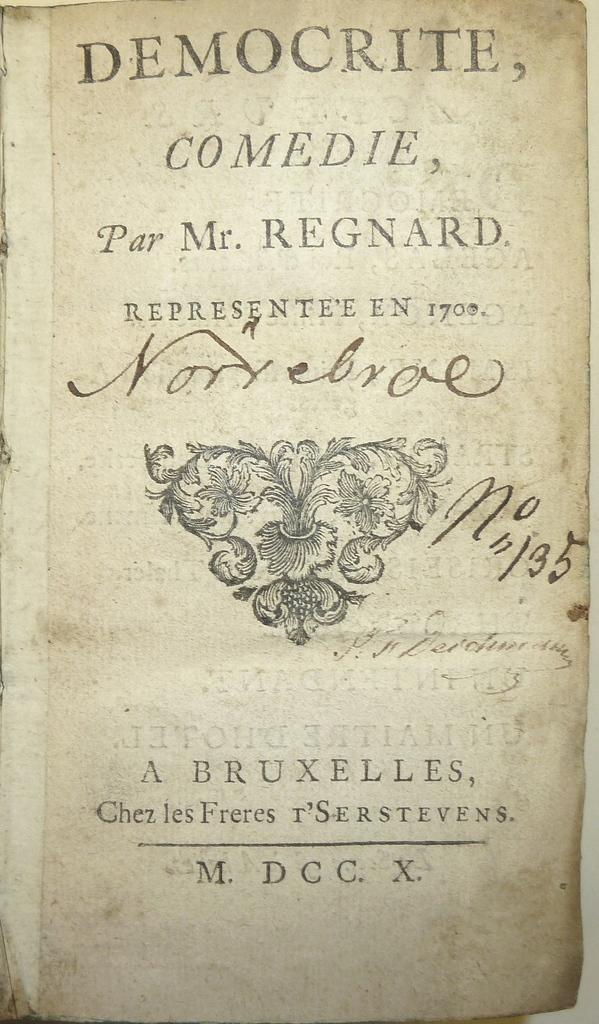book: (24, 0, 587, 1020)
